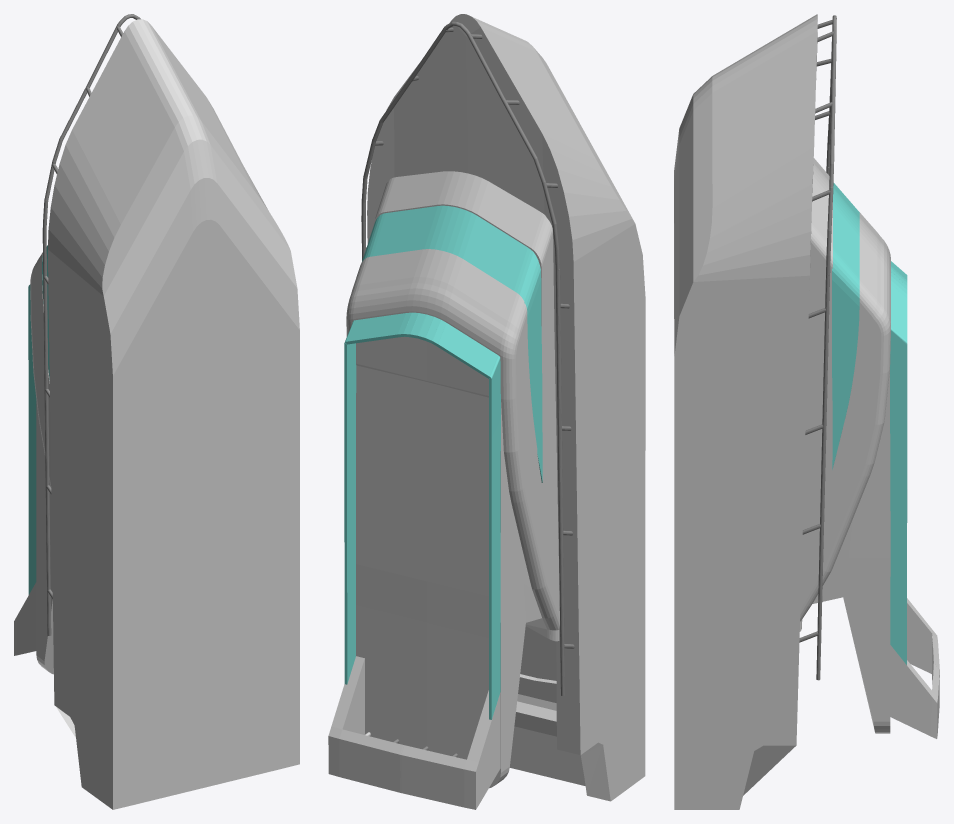
Rendered from middleShip.fbx.
3 renders of one model, left to right at view 1: azimuth 30°, elevation 25°; view 2: azimuth 150°, elevation 25°; view 3: azimuth 270°, elevation 25°, orthographic. The views are drawn at different scales.
Parts seen in each view (by area): view 1: Cube.004; view 2: Cube.004; view 3: Cube.004.
Boxes of the visible parts, box(x1,y1,x2,y2) form: Cube.004: box(14, 14, 299, 809); Cube.004: box(328, 14, 645, 809); Cube.004: box(674, 14, 939, 809).
Bounding box in the file's own units: 437 × 1602 × 517.
